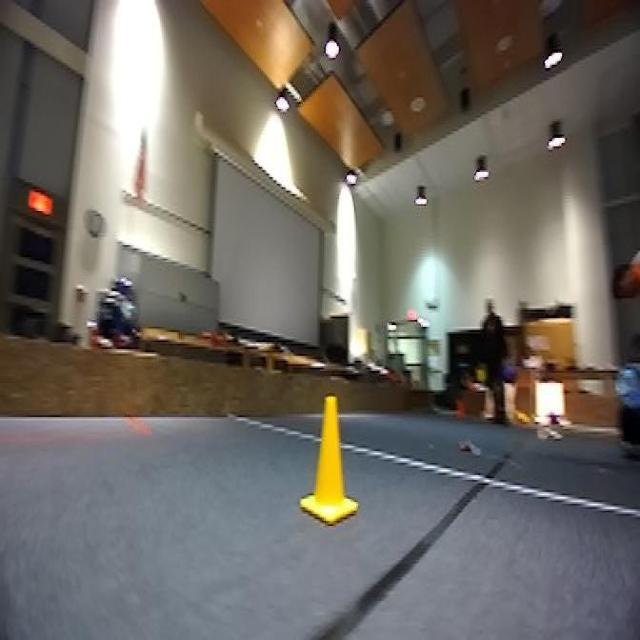frc_cone: (300, 392, 357, 524)
